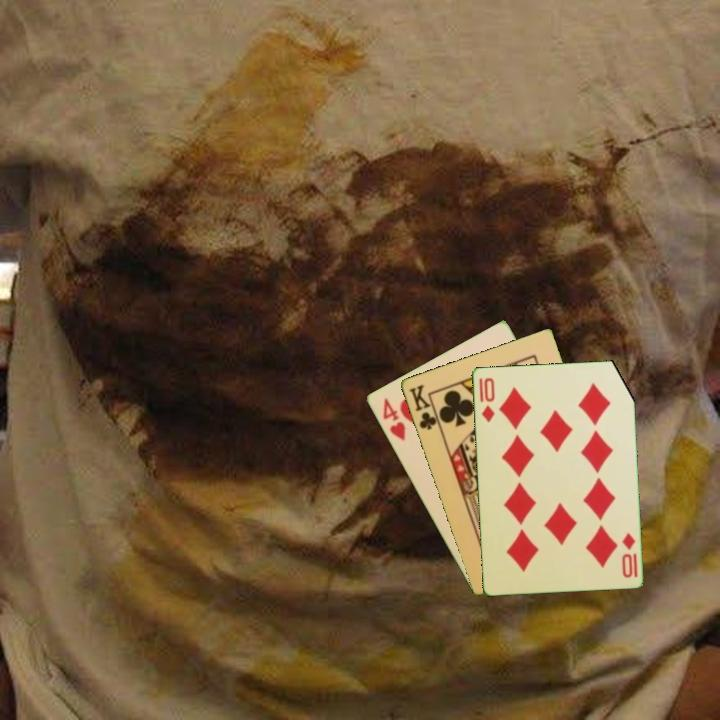10d: (475, 374, 497, 425), (618, 529, 640, 580)
4h: (379, 394, 408, 444)
Kc: (405, 381, 442, 433)
